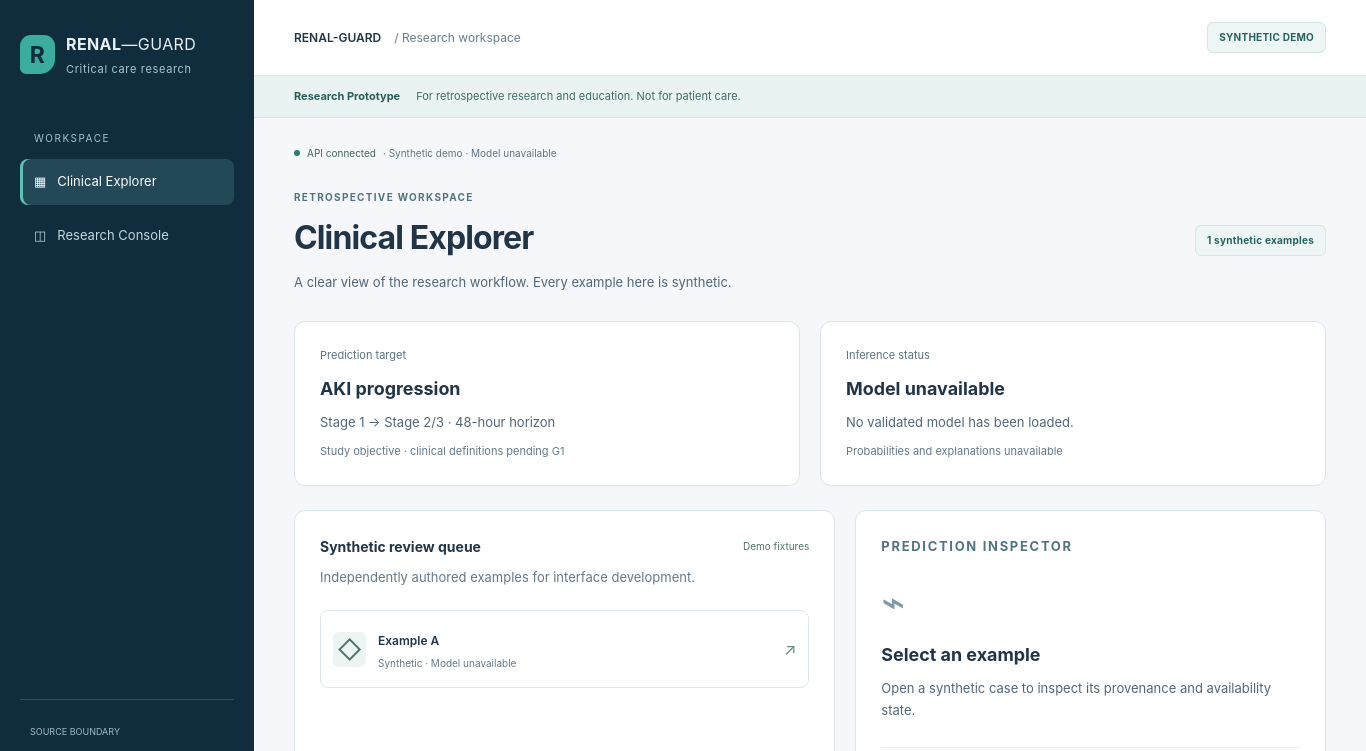
Test case: demo connects, opens synthetic case, and navigates to honest research empty state
This screenshot has width=1366, height=751.
Expected: the text "SYNTHETIC DEMO" is shown, left=1207, top=22, right=1326, bottom=53
Click the button "◇ Example A Synthetic · Model unavailable ↗" at (350, 649), box left=320, top=610, right=809, bottom=688
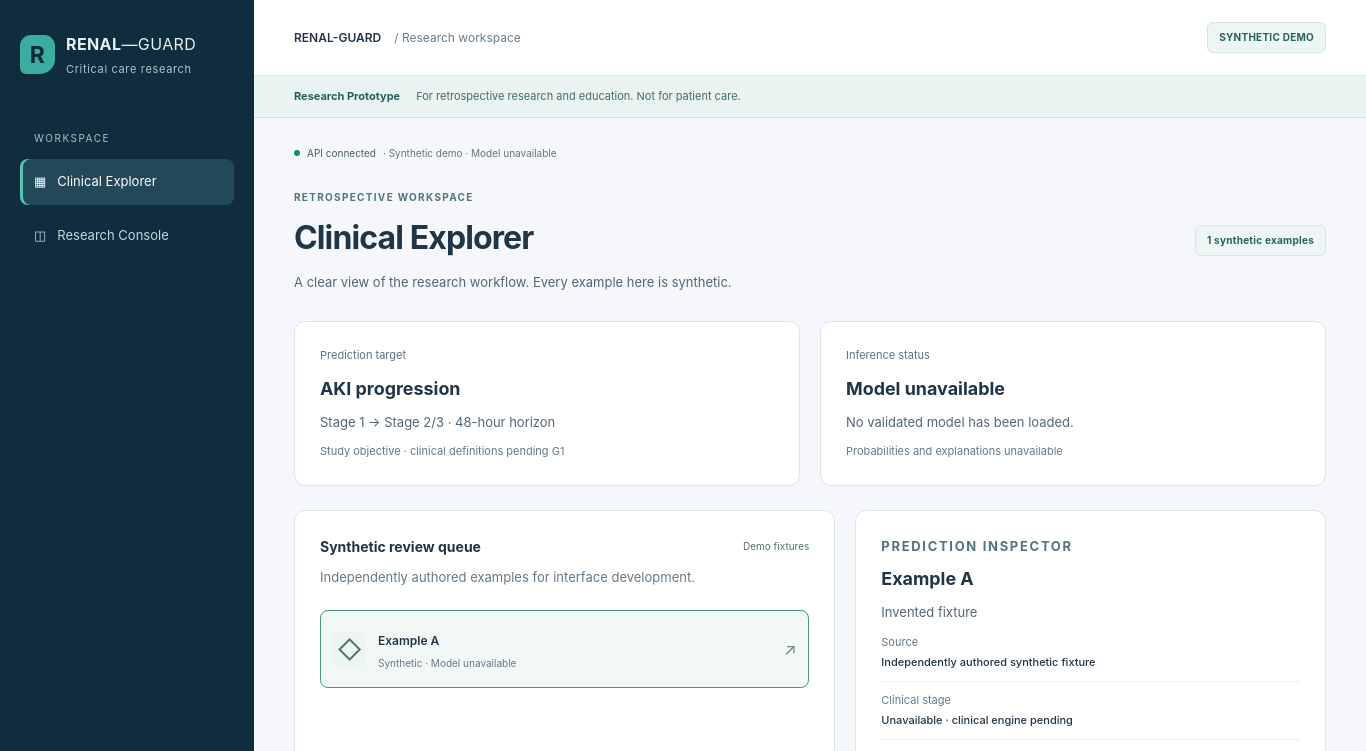
Expected: the heading "Model unavailable" is shown, left=846, top=378, right=1005, bottom=399
Now the text "Invented fixture" is shown, box left=881, top=604, right=977, bottom=620
Now the text "Unavailable · clinical engine pending" is shown, box left=881, top=713, right=1073, bottom=727
Click the link "◫ Research Console" at (101, 234), box left=34, top=226, right=169, bottom=242
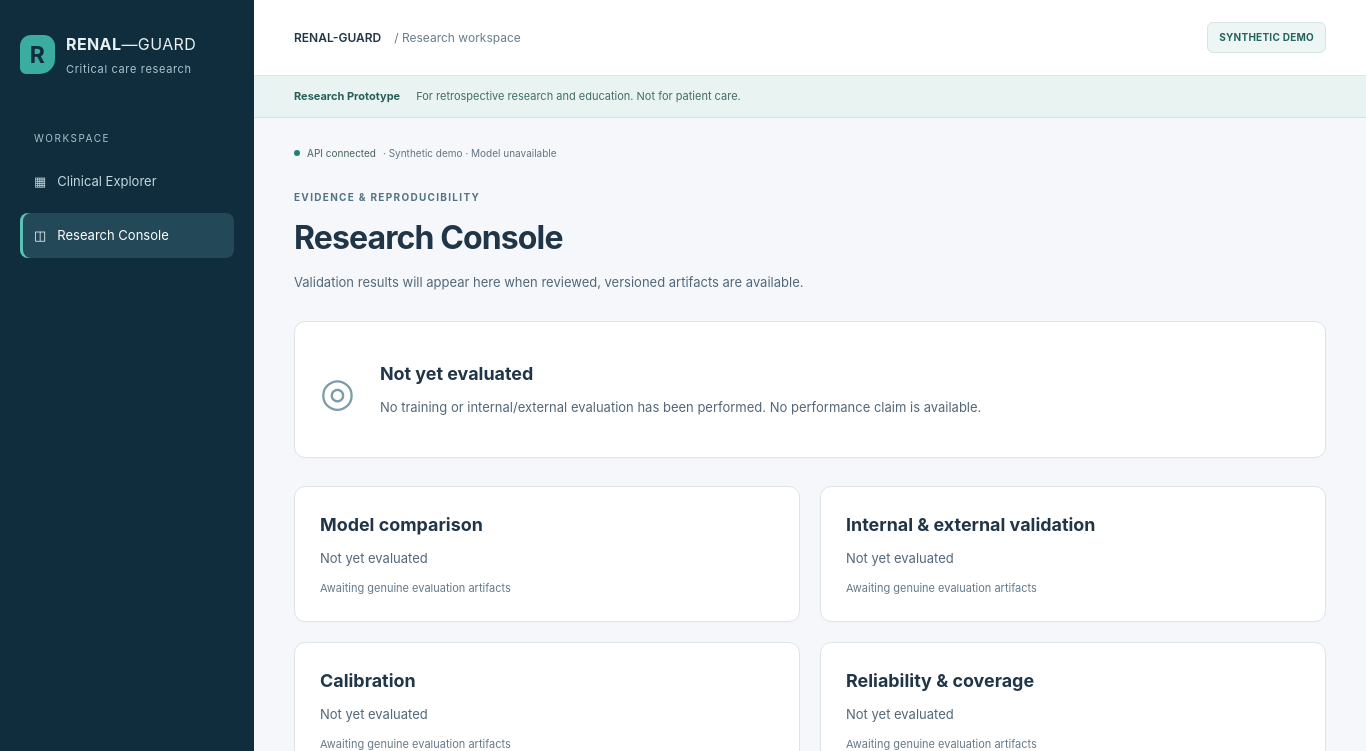
Now the heading "Research Console" is shown, box left=294, top=218, right=563, bottom=257
Now the heading "Not yet evaluated" is shown, box left=380, top=363, right=533, bottom=384
